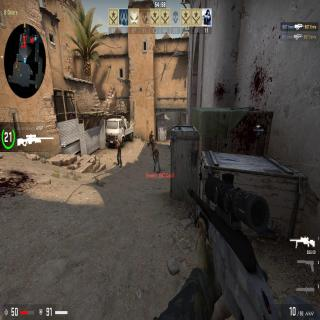T-Body: (116, 136, 123, 167), (154, 147, 160, 173), (147, 130, 153, 144), (152, 142, 156, 159), (150, 137, 154, 143)
T-Head: (152, 142, 155, 146), (116, 138, 118, 143), (156, 147, 158, 151), (151, 130, 153, 133), (151, 136, 152, 140)
